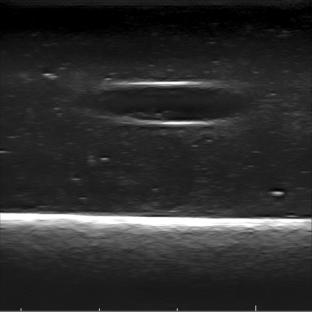vessel: (90, 81, 249, 126)
